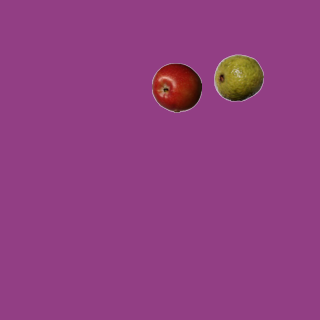Apple Braeburn: (151, 62, 201, 112)
Guava: (213, 52, 263, 102)
